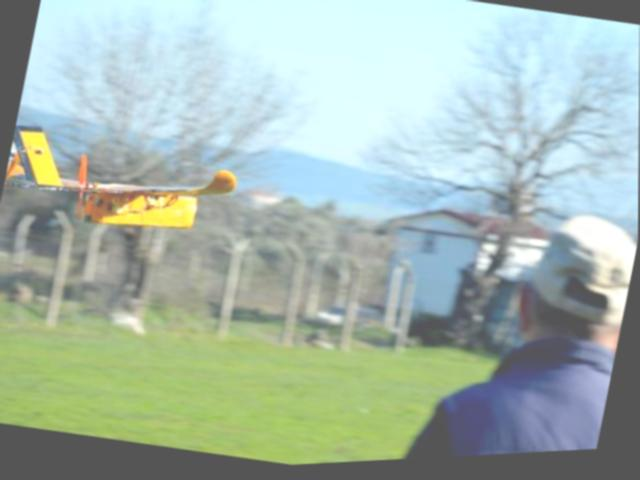iha: (0, 104, 258, 259)
